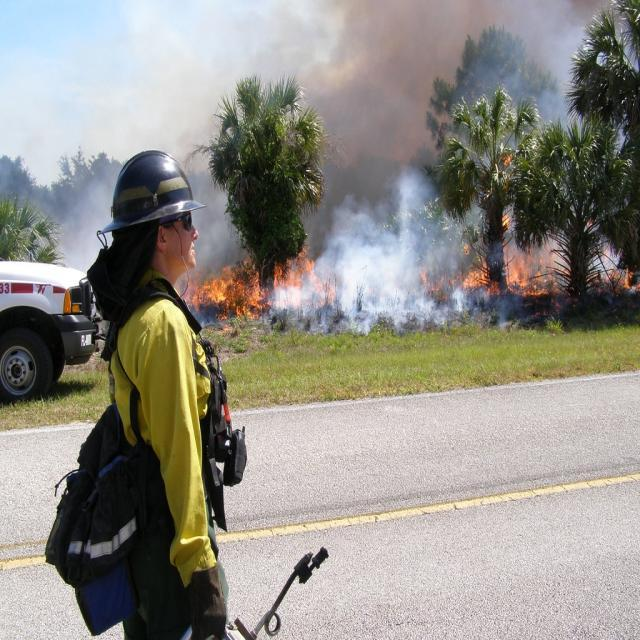Fire: (420, 214, 570, 301), (183, 242, 336, 318), (589, 266, 640, 294)
Smoke: (261, 1, 591, 336), (19, 166, 122, 272), (173, 168, 251, 292), (613, 22, 640, 74), (593, 234, 622, 278), (614, 120, 630, 152), (594, 49, 608, 68)
